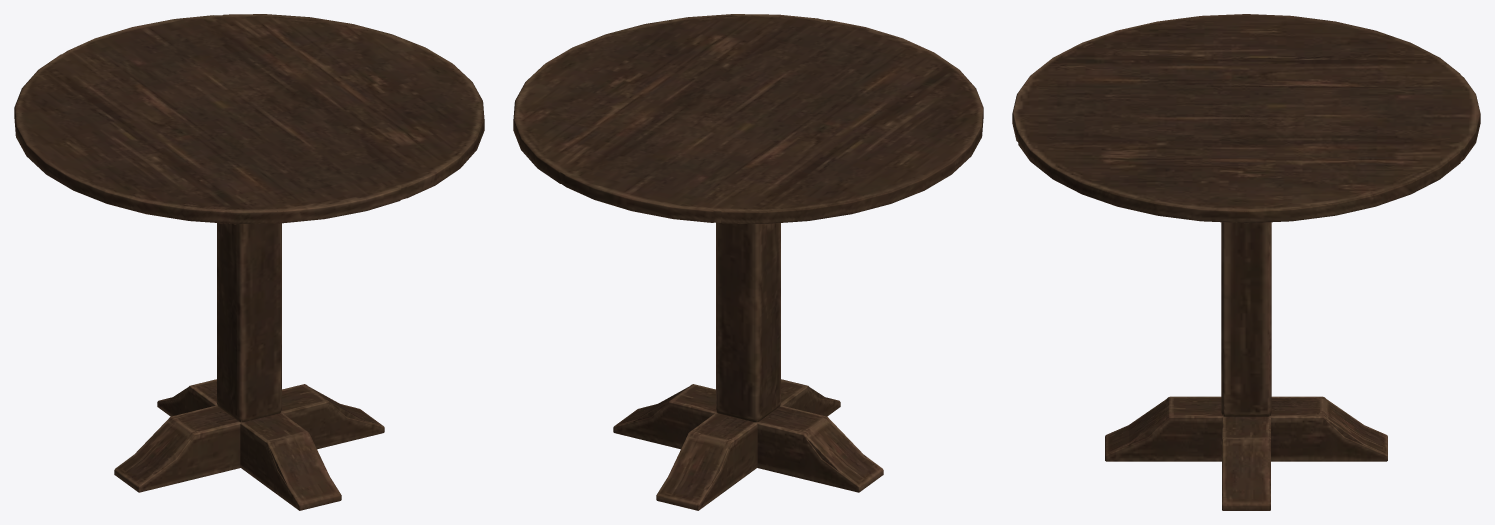
The model's file is TableB.glb.
3 views of the same model, side by side, from view 1: azimuth 30°, elevation 25°; view 2: azimuth 150°, elevation 25°; view 3: azimuth 270°, elevation 25° (orthographic).
Visible parts, largest first — view 1: TableB; view 2: TableB; view 3: TableB.
Boxes of the visible parts, x1,y1,x2,y2 form: TableB: [14, 14, 484, 510]; TableB: [513, 14, 983, 510]; TableB: [1012, 14, 1480, 510].
Size of the model in its own units: 1.07 by 0.8592 by 1.07.
Materials: 1 (1 with a texture image).
